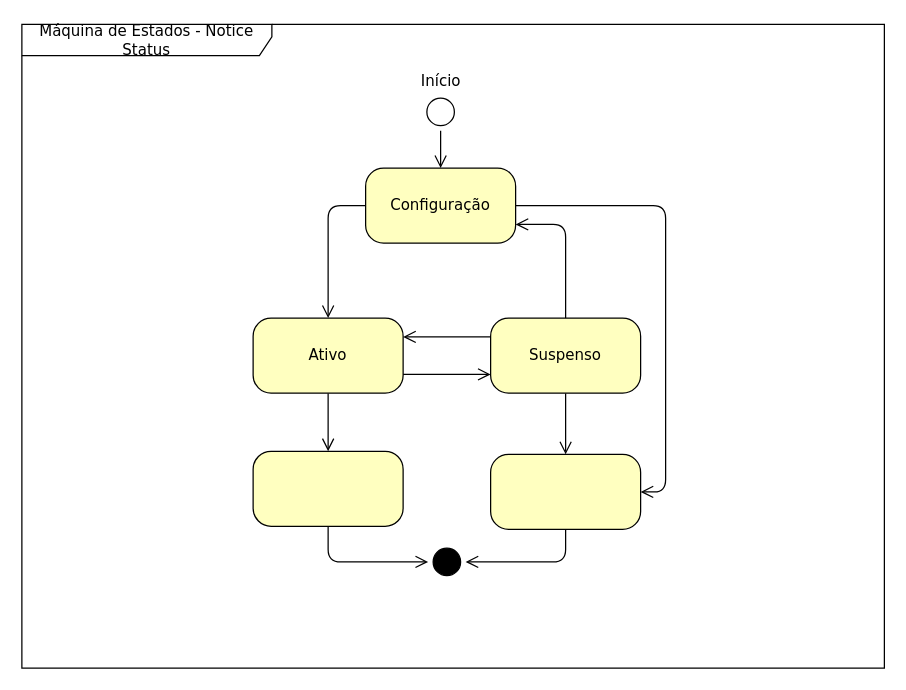
Some shapes in this 906 by 690 pixel diagram are drawn without their labels. The box of each missing label's shape, as (x1, y1, x2, y2) in pixels:
Cancelado: (489, 453, 641, 529)
Fim: (427, 542, 466, 581)
Terminado: (252, 450, 403, 526)
